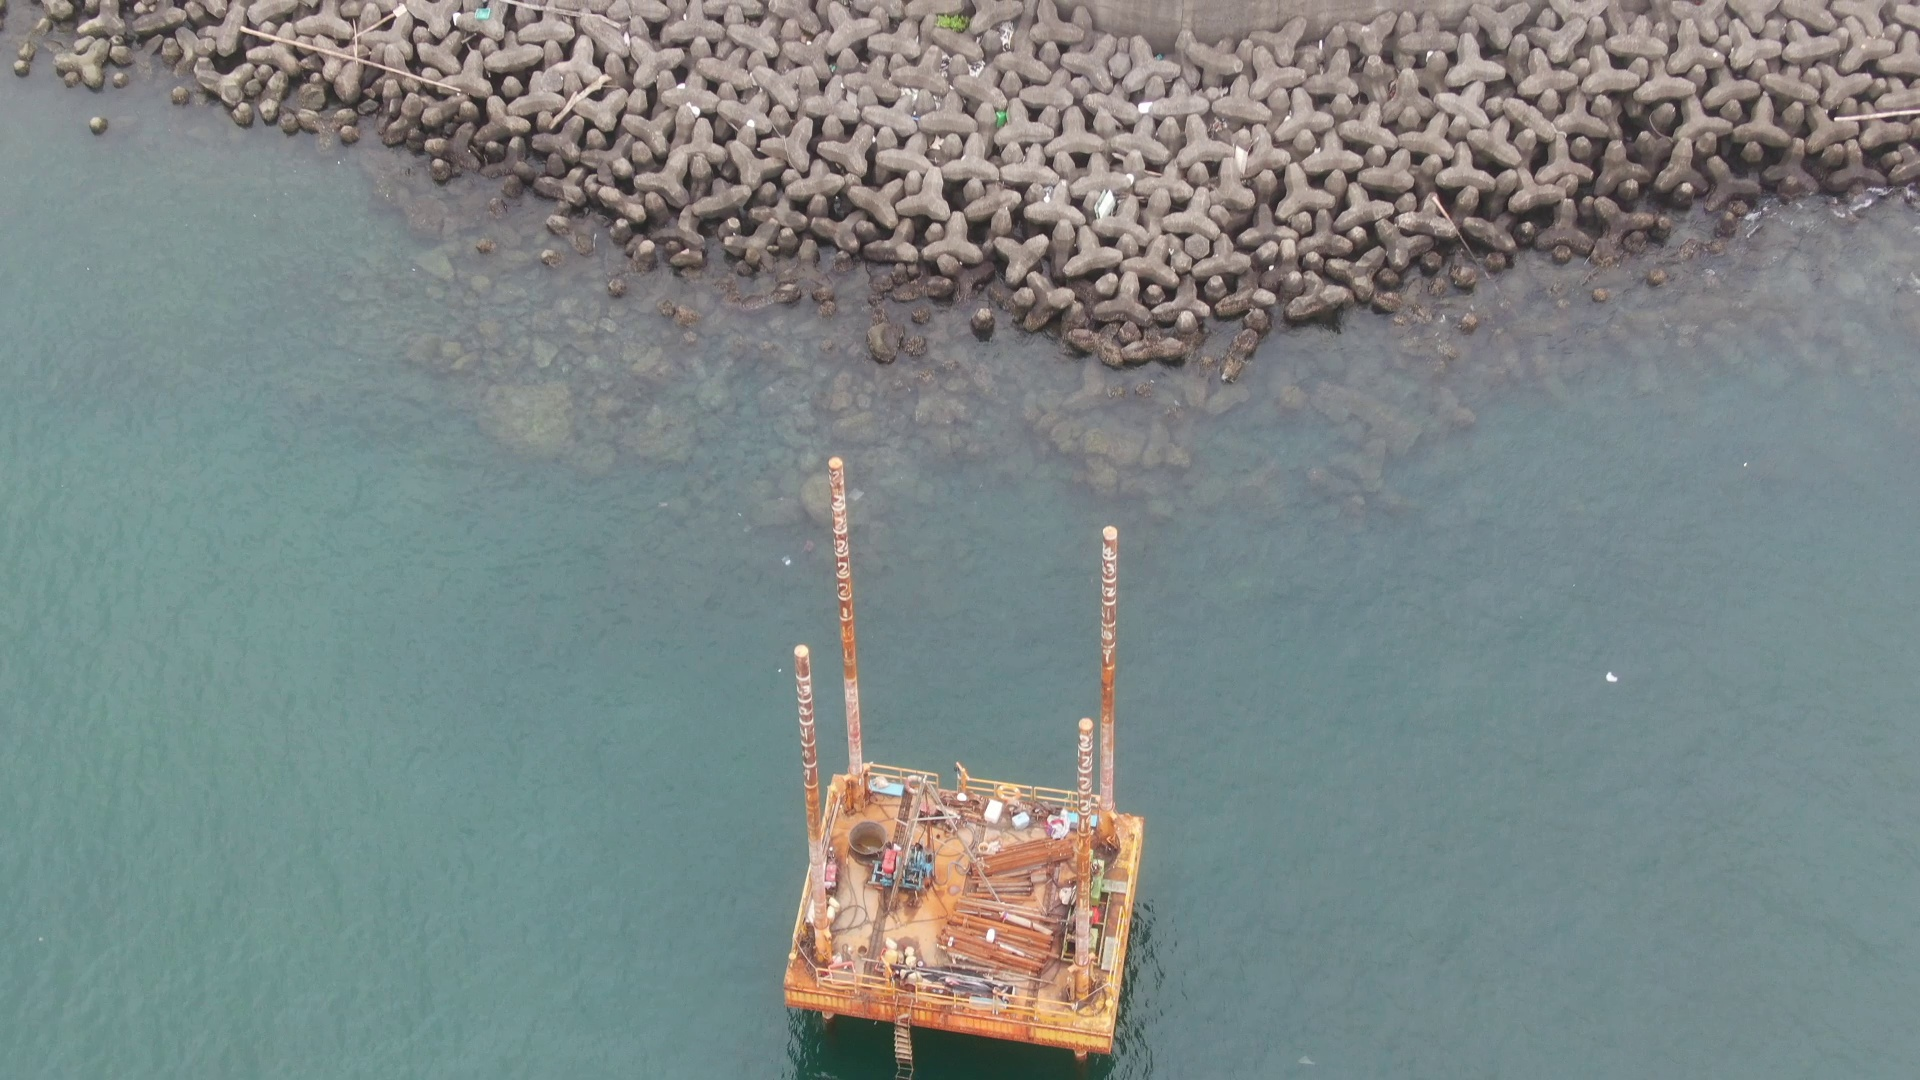garbage: (1087, 183, 1129, 222), (988, 108, 1014, 135)
